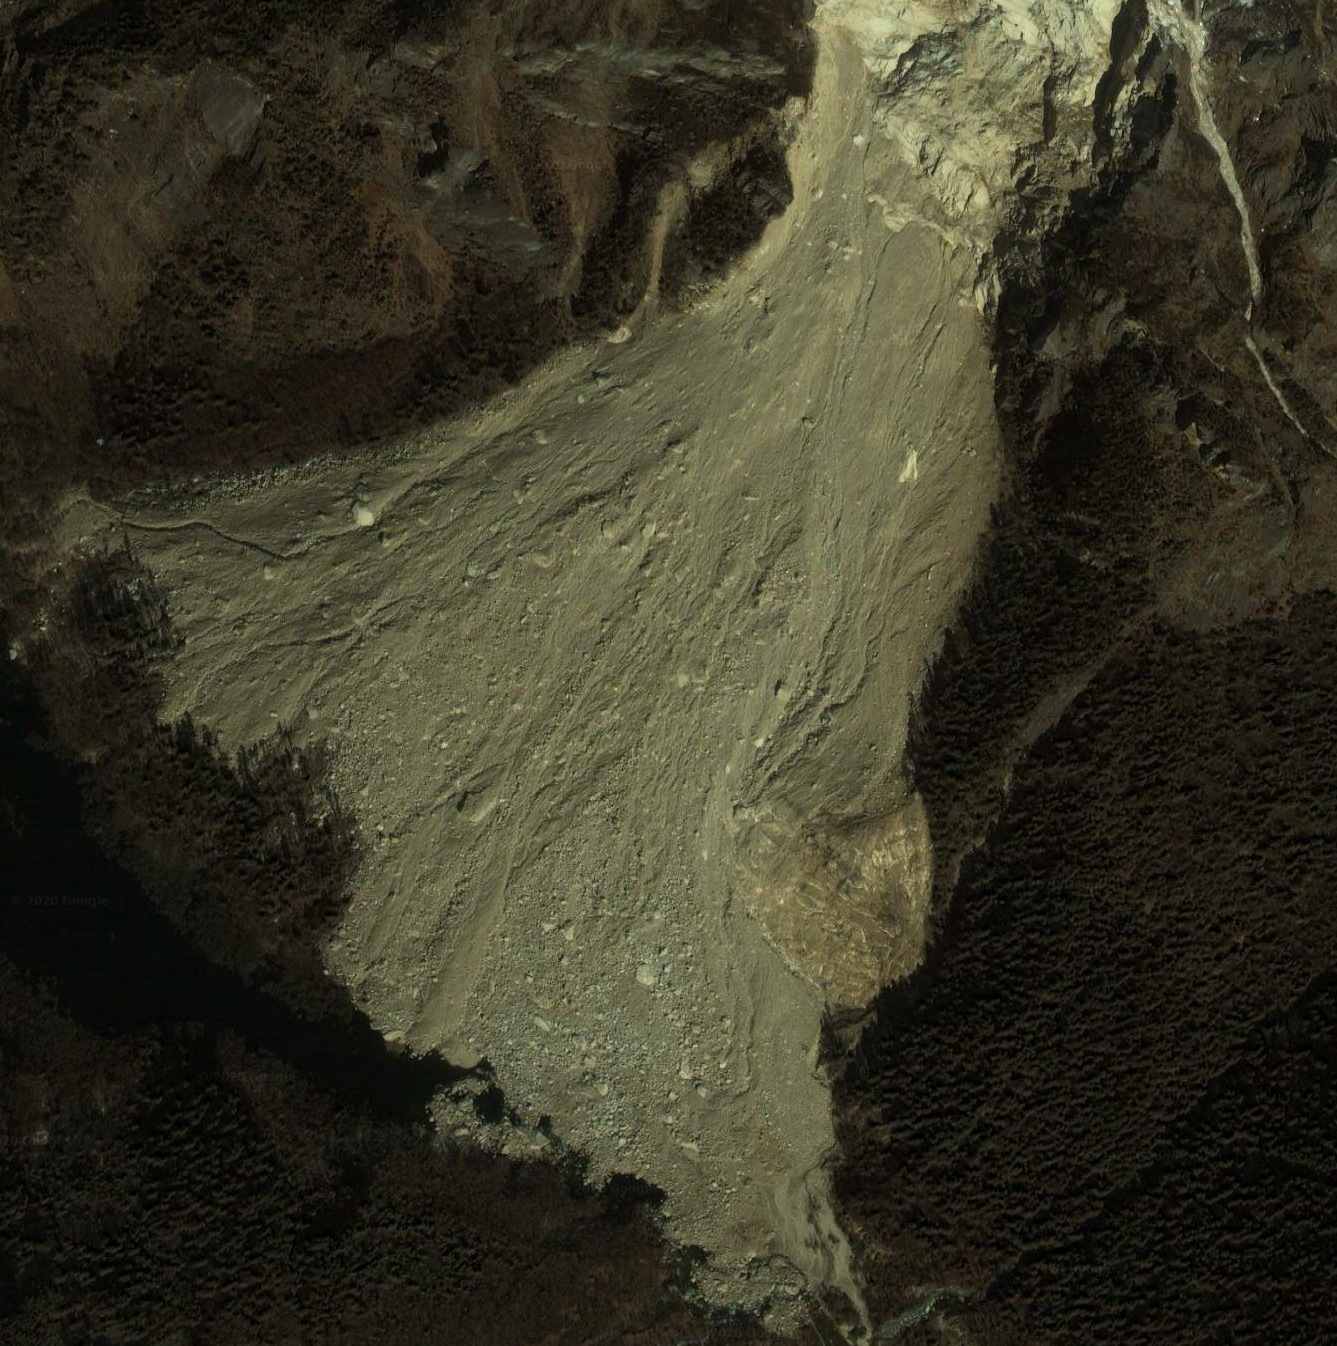slope: (13, 0, 1211, 1345)
